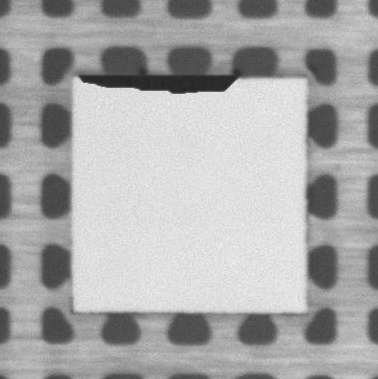DIE_BROKEN: (75, 71, 244, 93)
